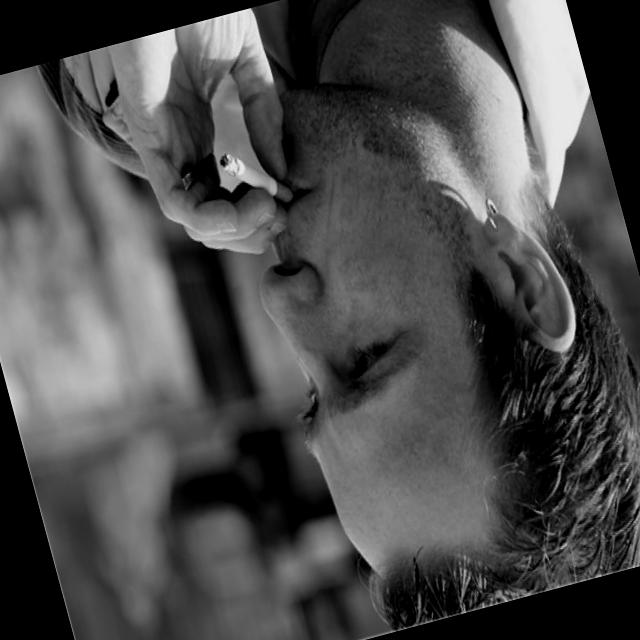cigarette: (214, 130, 296, 226)
